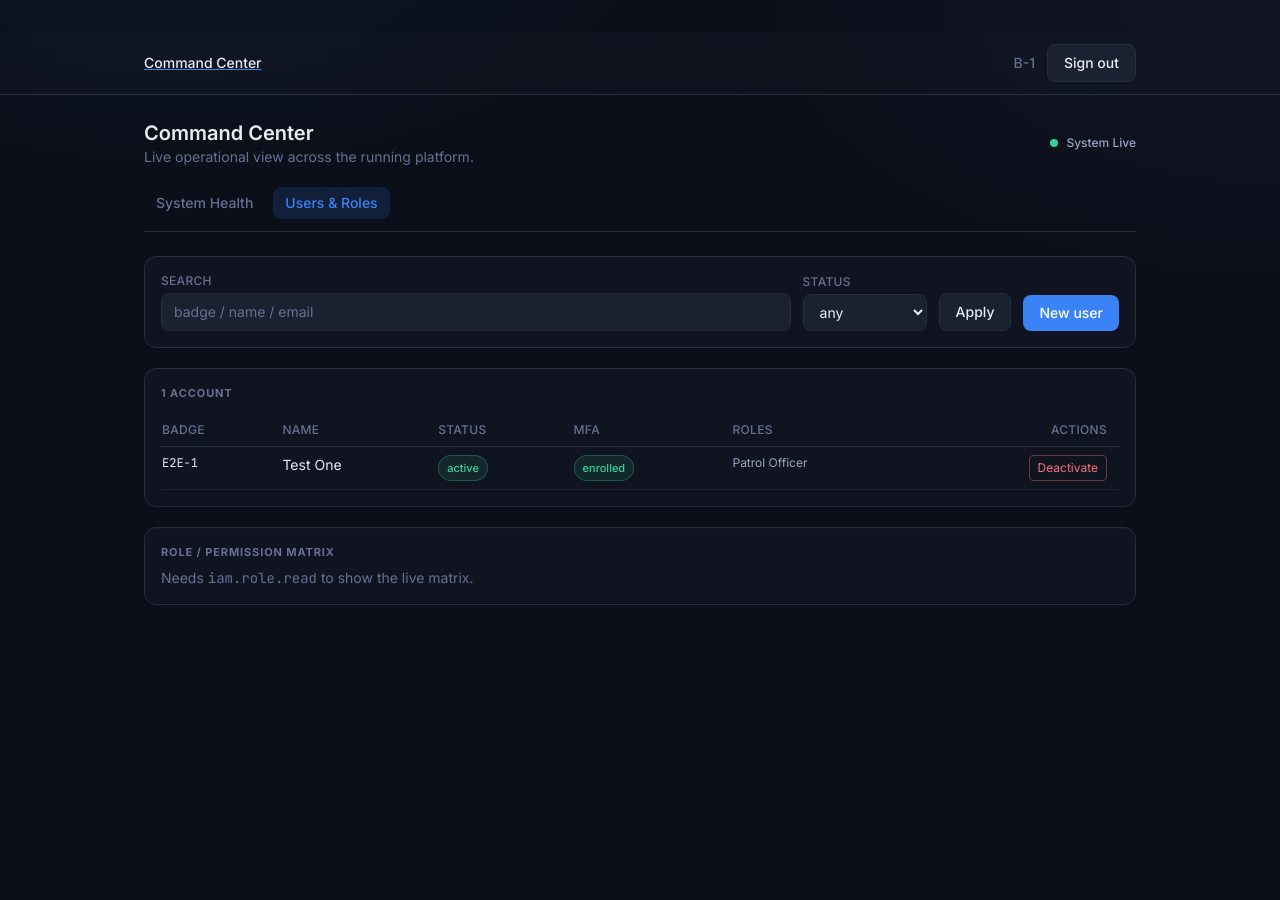
Test: Command Center — Users & Roles (B4) › deactivate hits PATCH /users/{id} when the caller holds iam.user.write
The width and height of the screenshot is (1280, 900).
What coordinates should you click on to do the following:
click the button "Deactivate"
I would click on:
 (1068, 468)
Its box is [1029,454,1107,480].
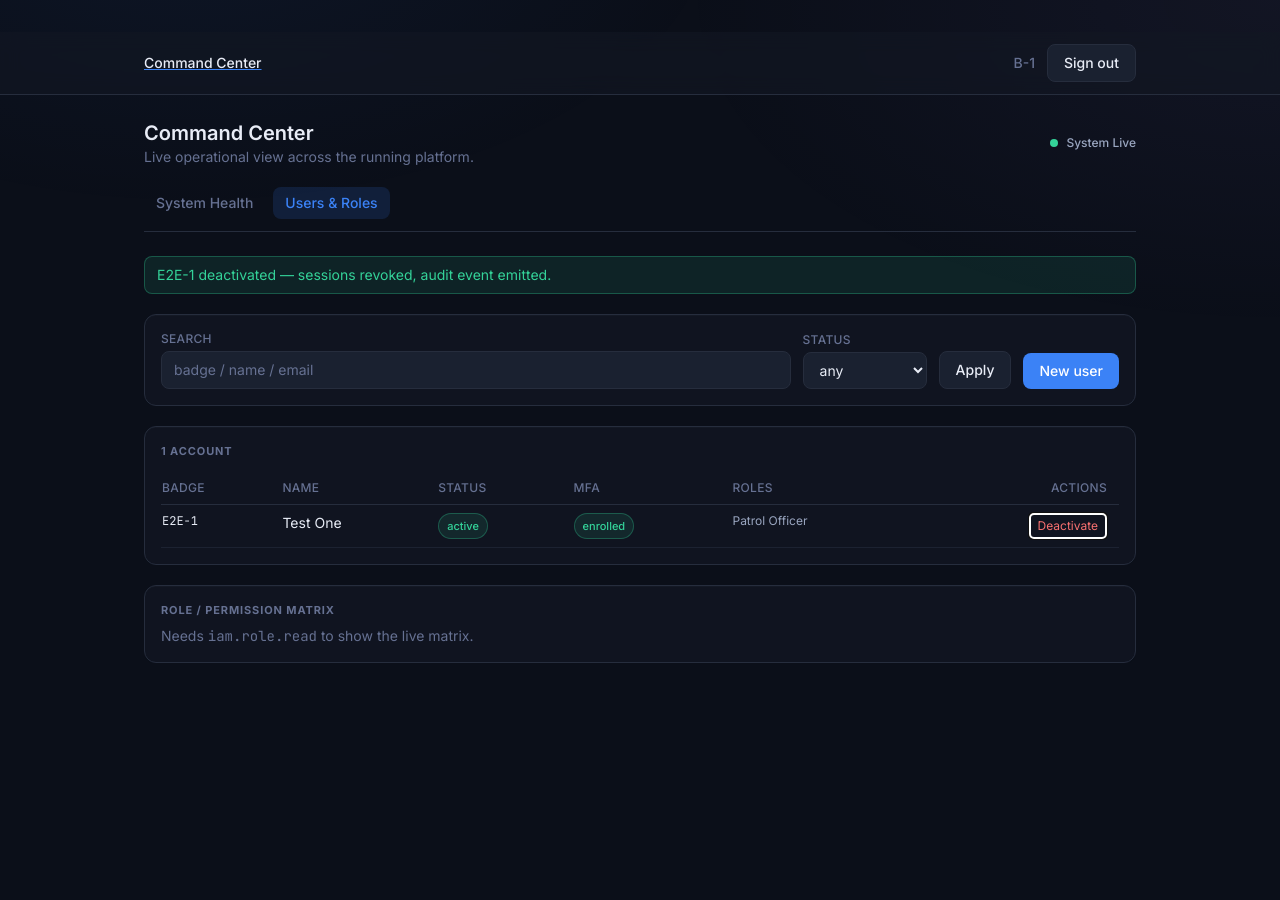
Check: the text "E2E-1 deactivated — sessions revoked, audit event emitted." is shown, box [144,256,1136,294]
